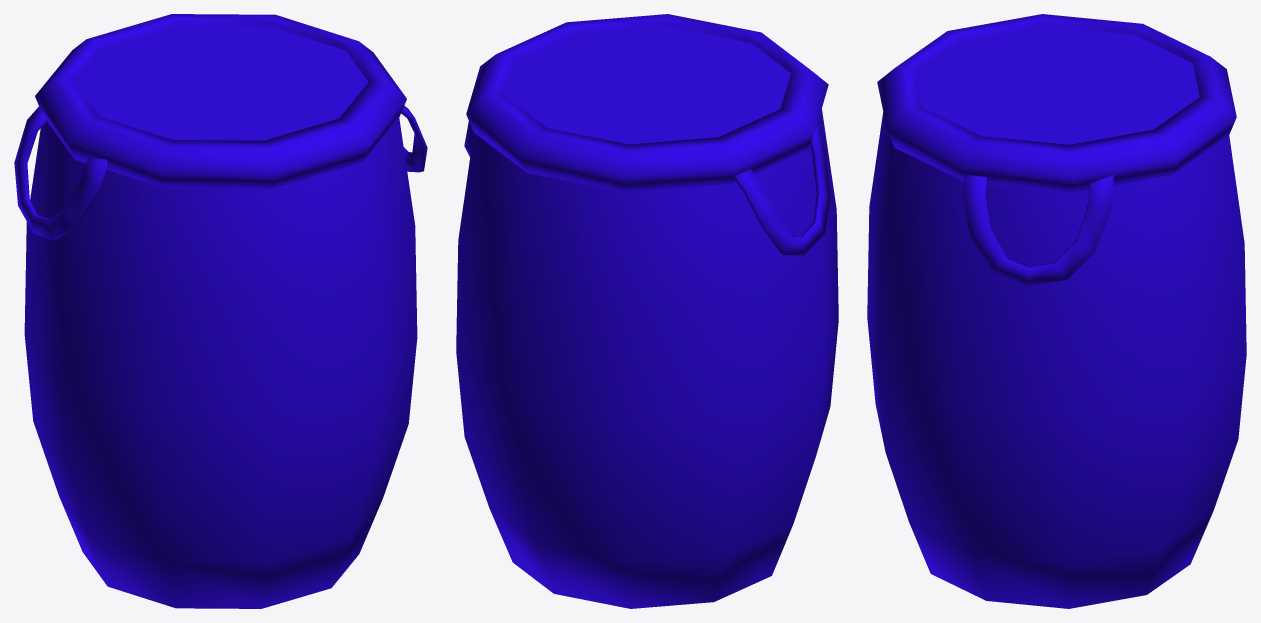
Rendered from Basket_1_M.fbx.
3 views of the same model, side by side, from view 1: azimuth 30°, elevation 25°; view 2: azimuth 150°, elevation 25°; view 3: azimuth 270°, elevation 25° (orthographic).
Parts seen in each view (by area): view 1: Basket_1_LOD0; view 2: Basket_1_LOD0; view 3: Basket_1_LOD0.
Boxes of the visible parts, box(x1,y1,x2,y2) form: Basket_1_LOD0: box(14, 14, 427, 608); Basket_1_LOD0: box(456, 14, 838, 608); Basket_1_LOD0: box(867, 14, 1246, 608).
Size of what is drawn, in the model's own units: 46.77 by 60.72 by 44.61.
